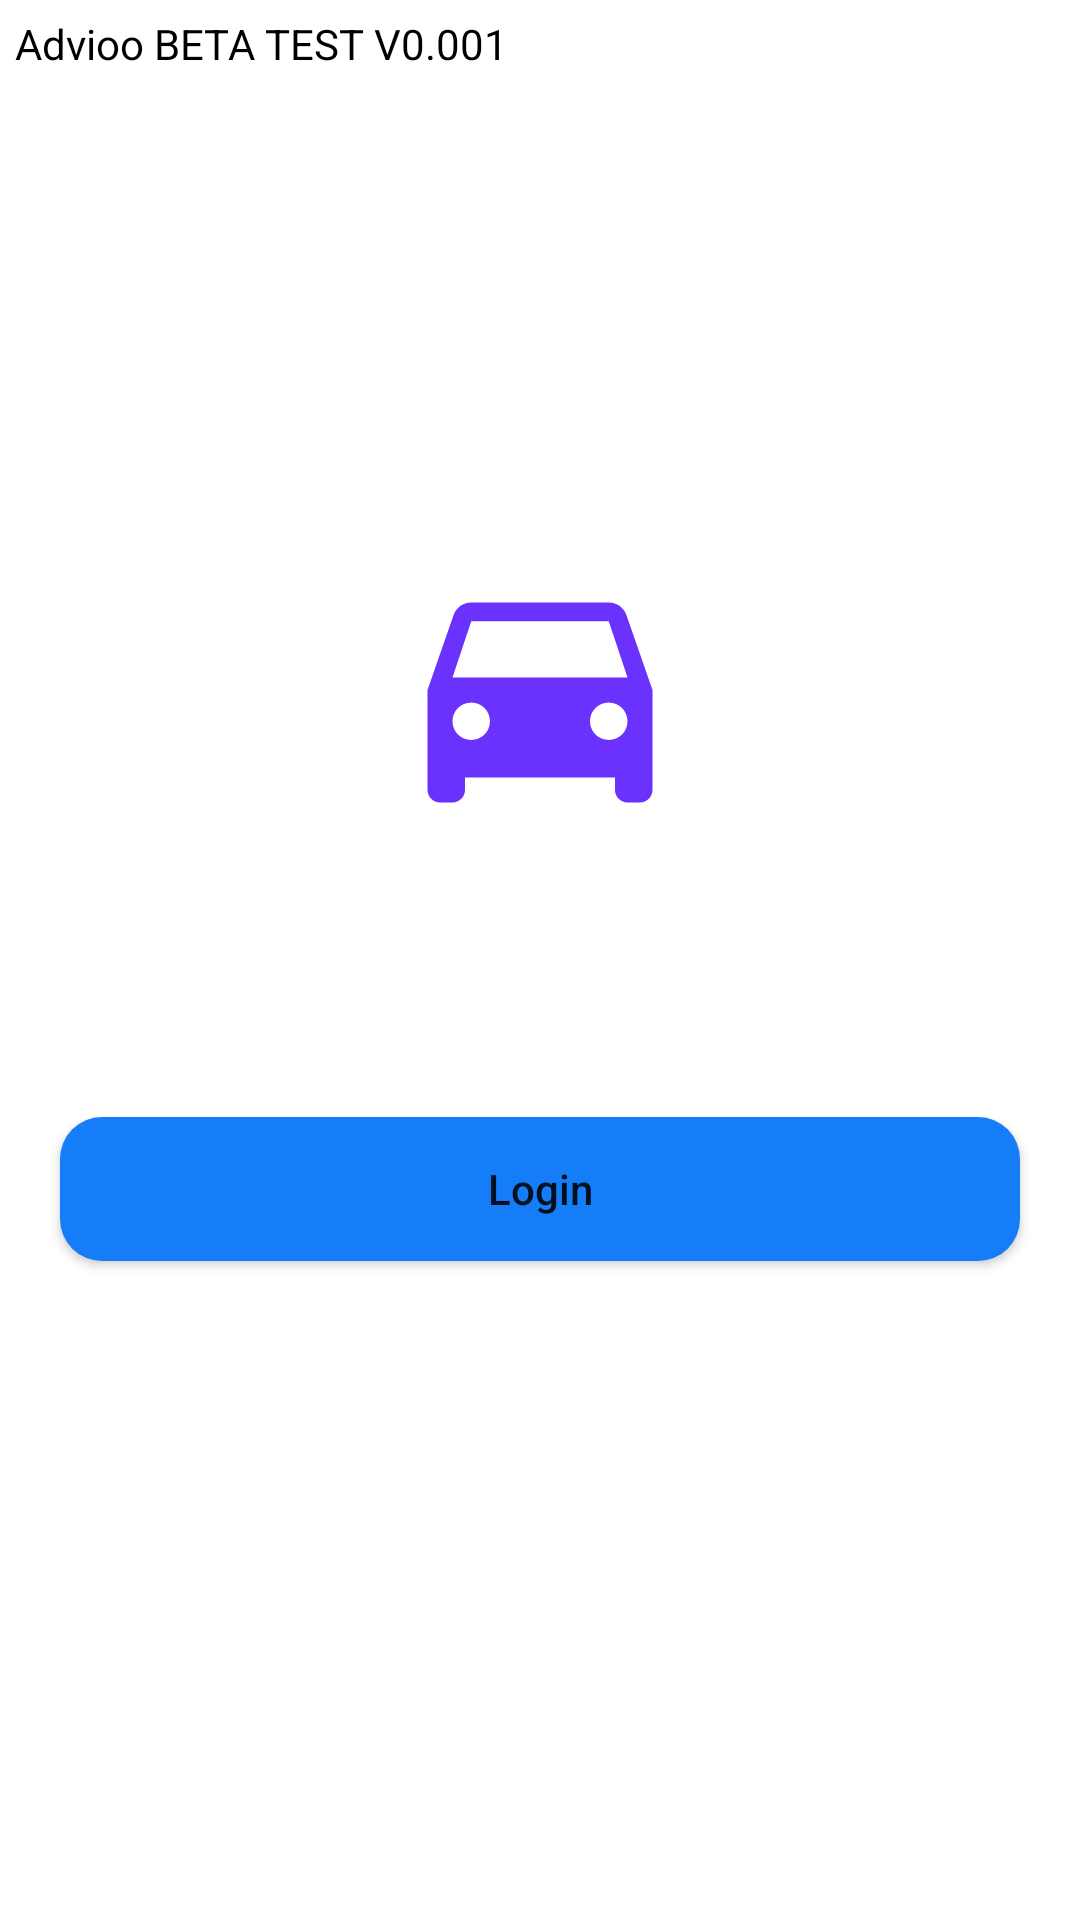

Where icons sit on this 1080x1920 app screen, as (x1, y1, x2, y2):
directions car: (427, 602, 653, 803)
